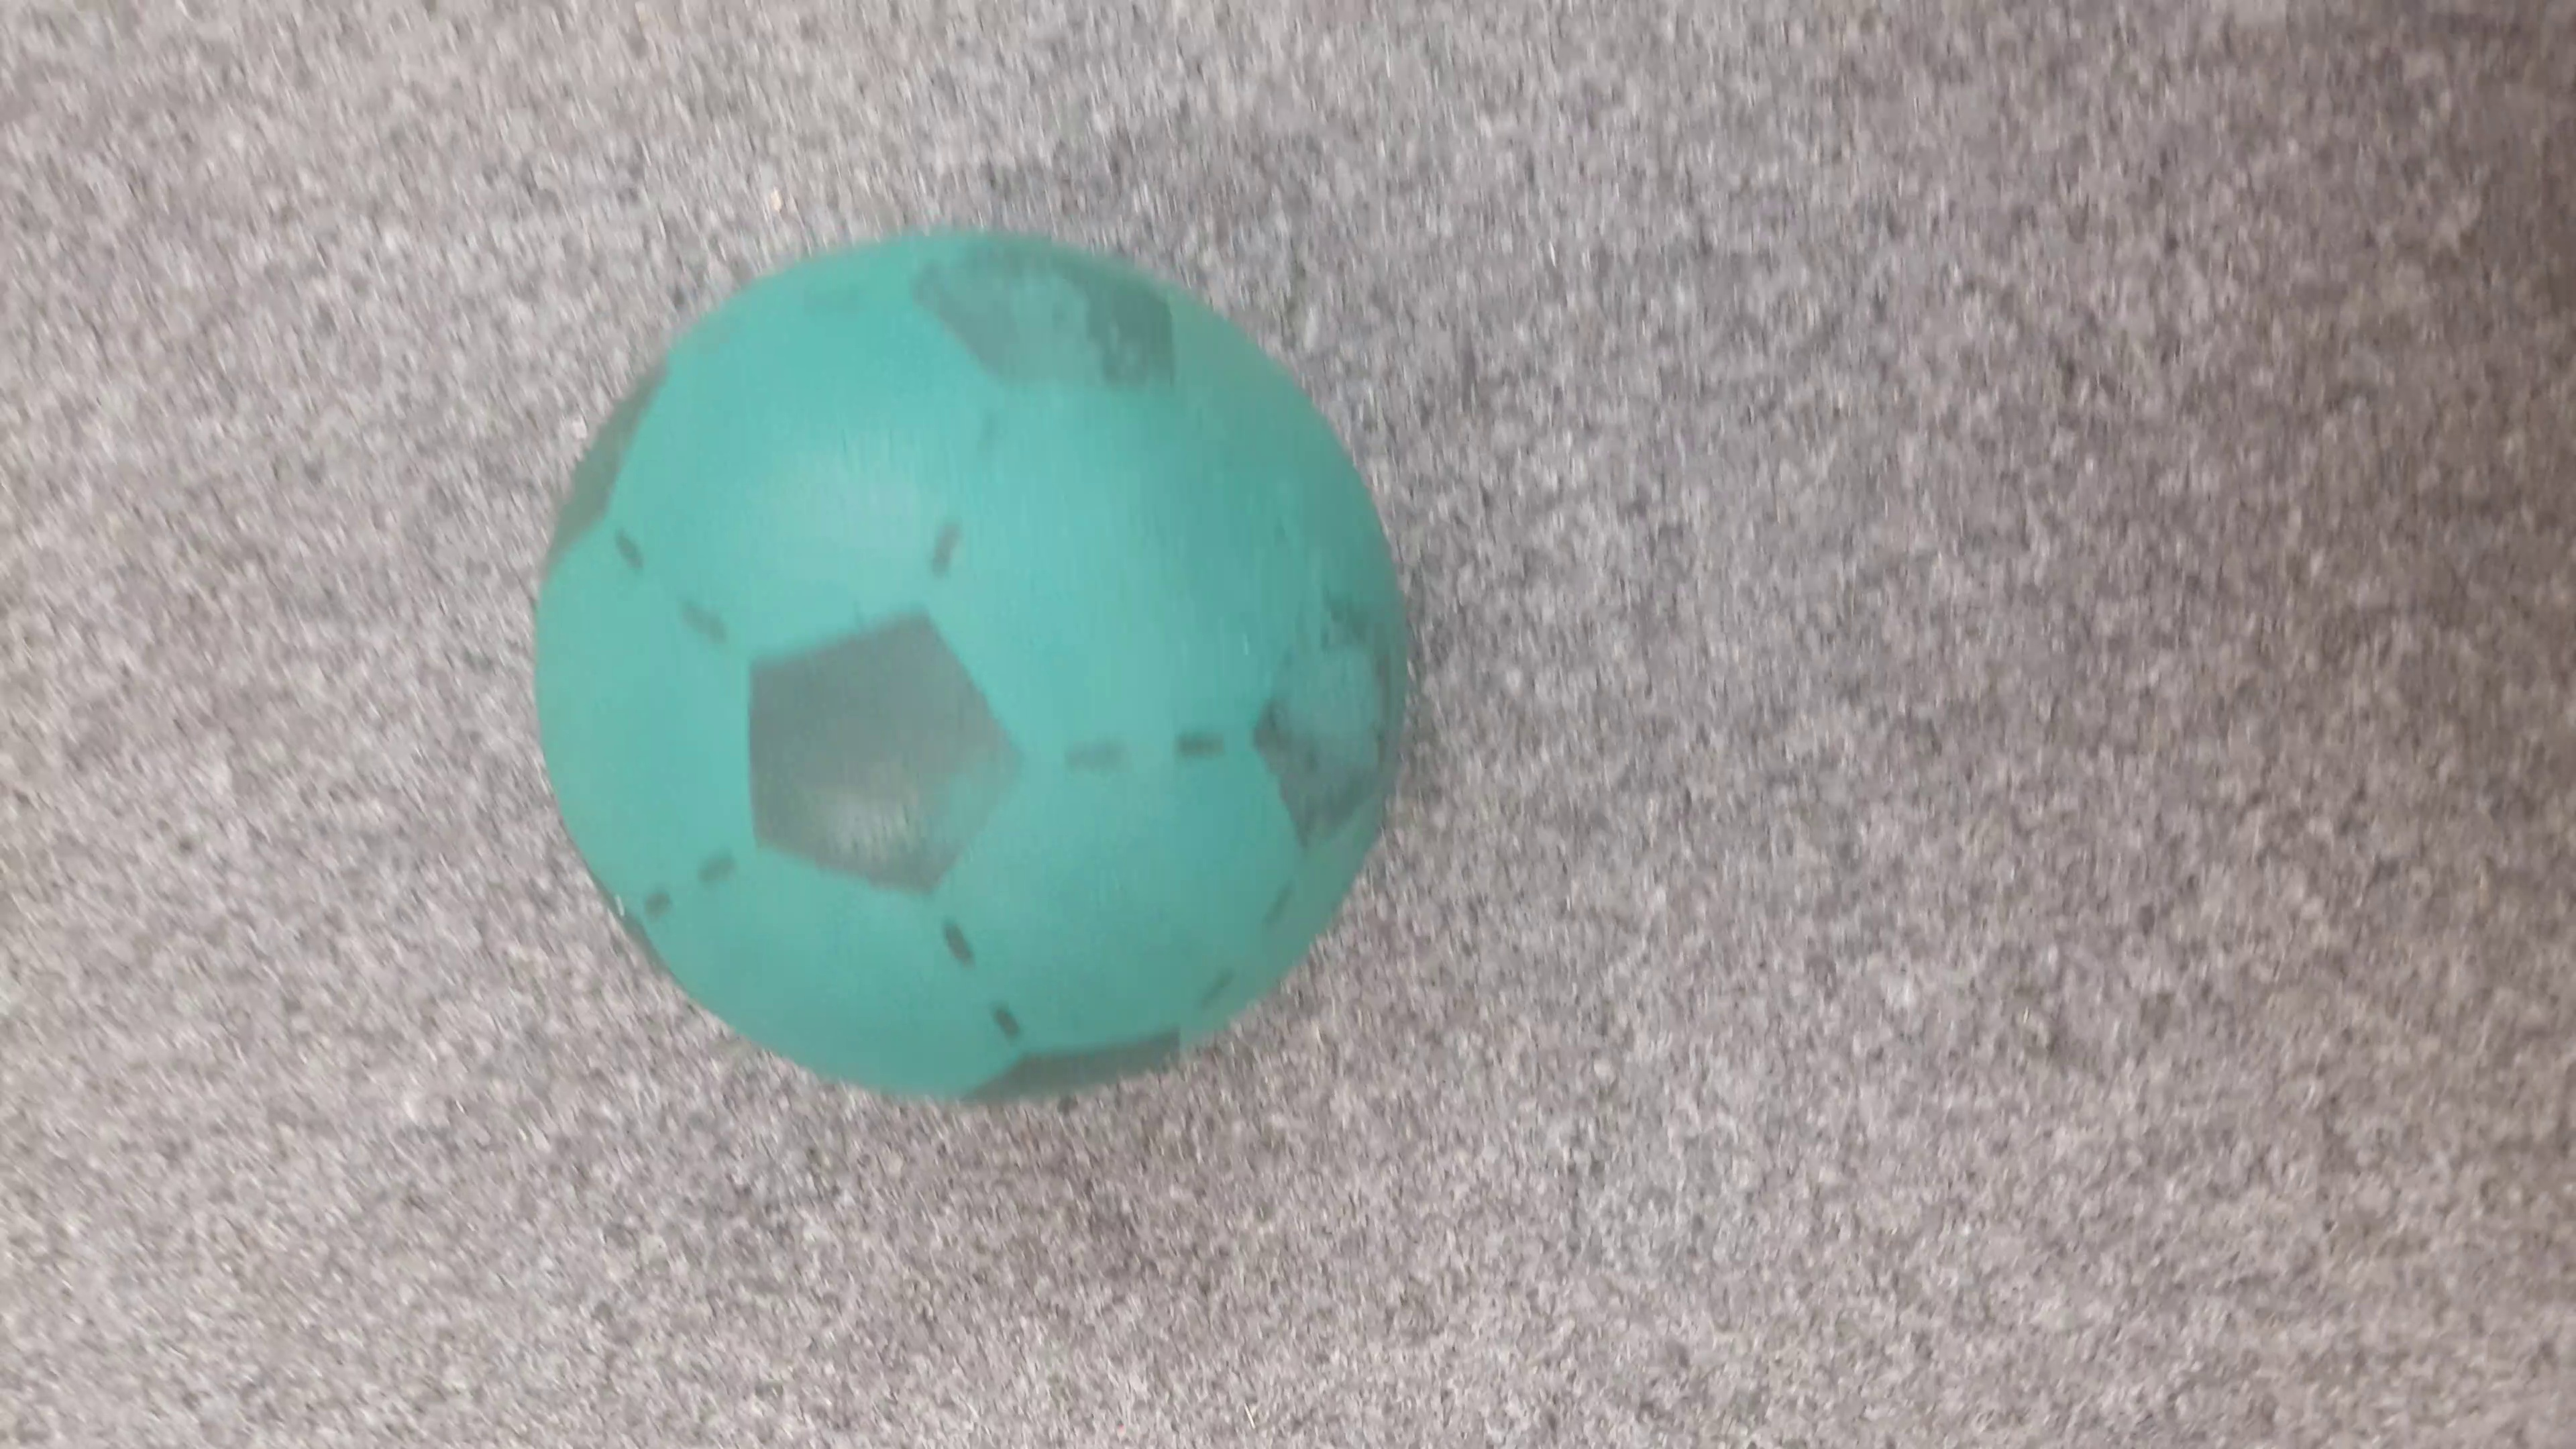kick: (525, 230, 1408, 1109)
